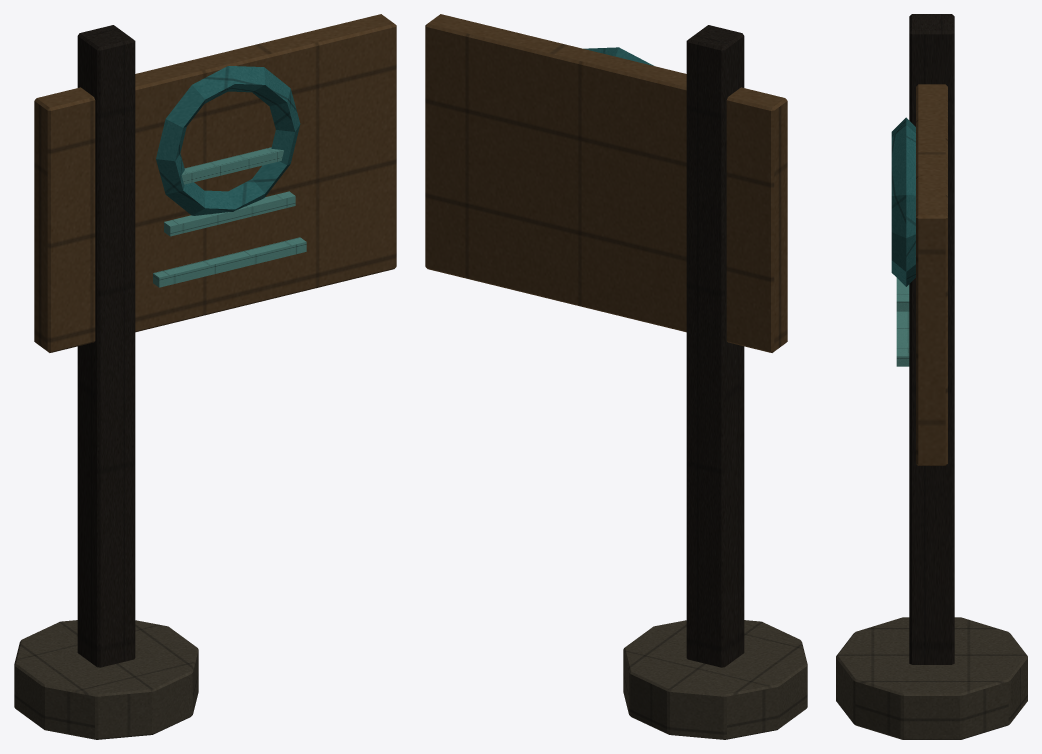
The model's file is tide-board.e5.glb.
The picture shows the model from 3 angles, left to right: view 1: azimuth 30°, elevation 25°; view 2: azimuth 150°, elevation 25°; view 3: azimuth 270°, elevation 25°; orthographic projection. The views are drawn at different scales.
Visible parts, largest first — view 1: TideBoardE5; view 2: TideBoardE5; view 3: TideBoardE5.
Part boxes in pixels (x1,y1,x2,y2): TideBoardE5: [14, 14, 396, 739]; TideBoardE5: [425, 14, 807, 739]; TideBoardE5: [836, 14, 1027, 739].
Size of the model in its own units: 1.33 by 2.33 by 0.5963.
1 material, 1 textured.
